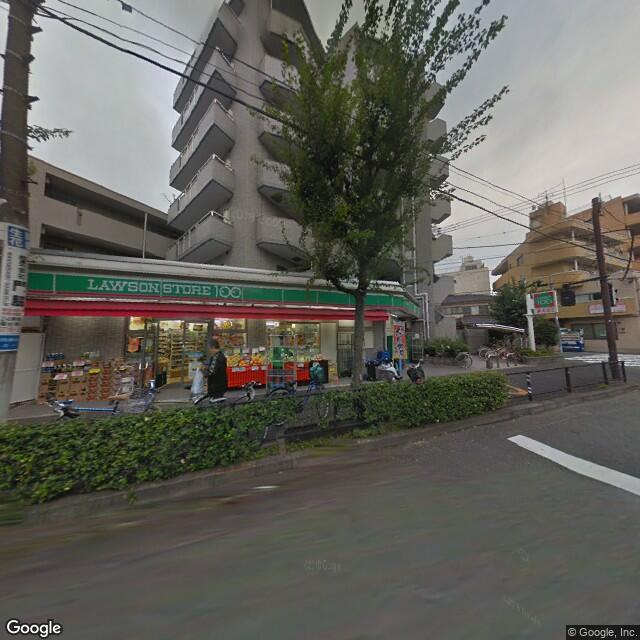lawson: (25, 260, 407, 316)
